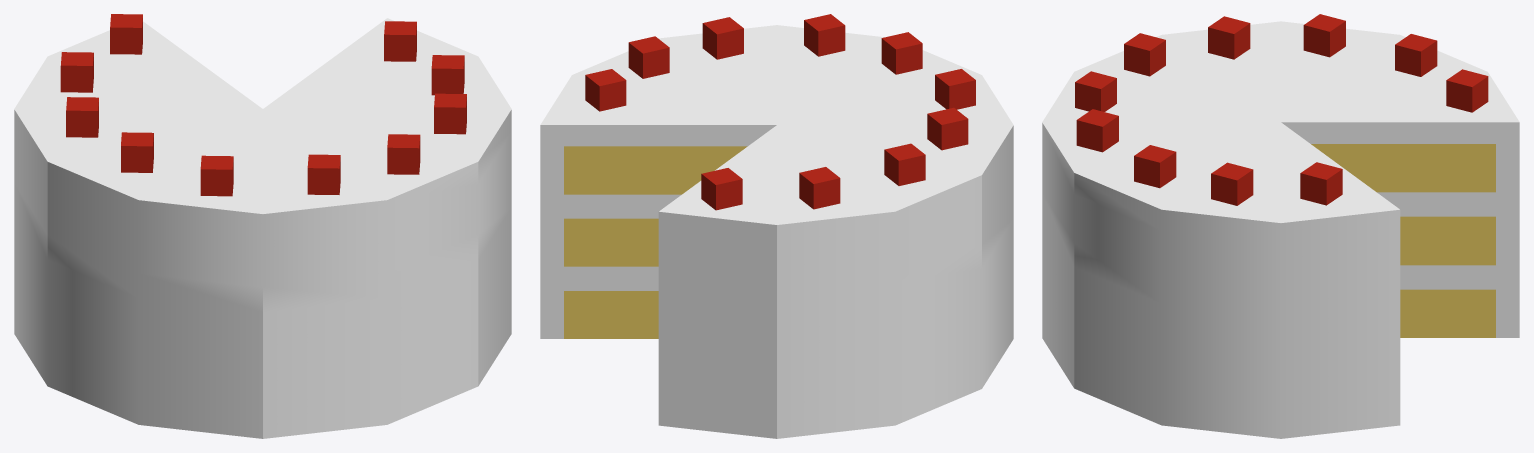
File: CandylandCake_01.fbx
3 views of the same model, side by side, from view 1: azimuth 30°, elevation 25°; view 2: azimuth 150°, elevation 25°; view 3: azimuth 270°, elevation 25° (orthographic). The views are drawn at different scales.
Visible parts, largest first — view 1: CandylandCake_01; view 2: CandylandCake_01; view 3: CandylandCake_01.
Boxes of the visible parts, x1,y1,x2,y2 form: CandylandCake_01: [14, 14, 511, 438]; CandylandCake_01: [540, 14, 1013, 438]; CandylandCake_01: [1042, 14, 1519, 438].
Bounding box in the file's own units: 1.34 × 0.747 × 1.34.
